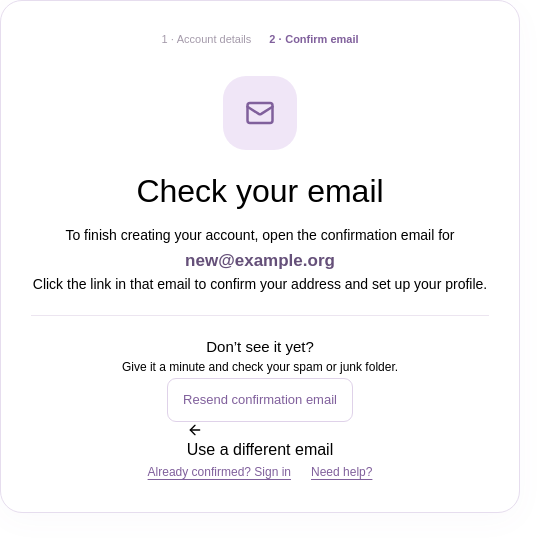
Test case: handles resend failure without claiming delivery or exposing backend errors
What coordinates should you click on to do the following:
click the button "Resend confirmation email"
I would click on:
 (260, 400)
Its box is [167,378,353,422].
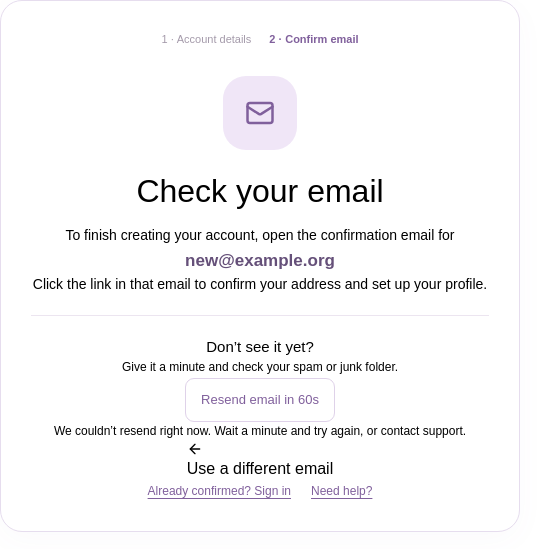
Check: the message shows "couldn’t resend", box [54,424,466,438]
